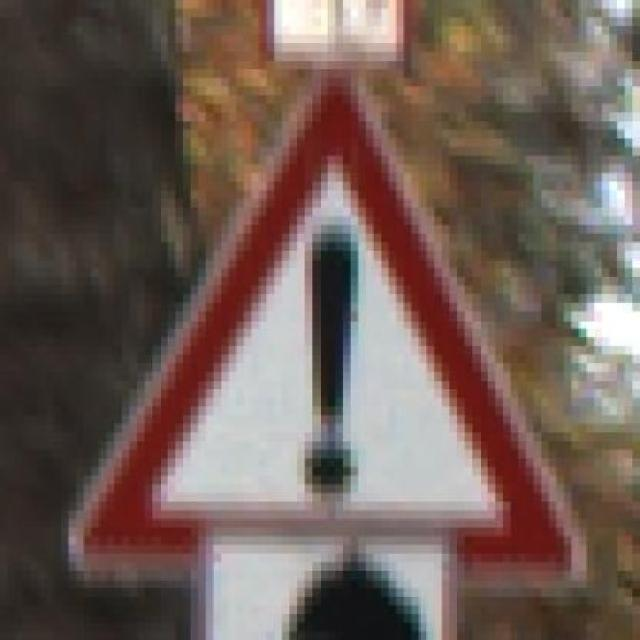Attention Please-: (61, 69, 587, 597)
